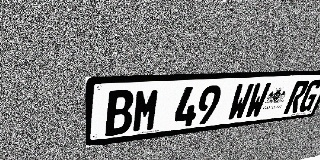4: (173, 86, 202, 128)
9: (194, 85, 223, 125)
B: (105, 89, 135, 136)
G: (297, 80, 320, 112)
M: (131, 88, 161, 133)
R: (283, 80, 310, 114)
W: (226, 83, 255, 121), (243, 82, 272, 119)
